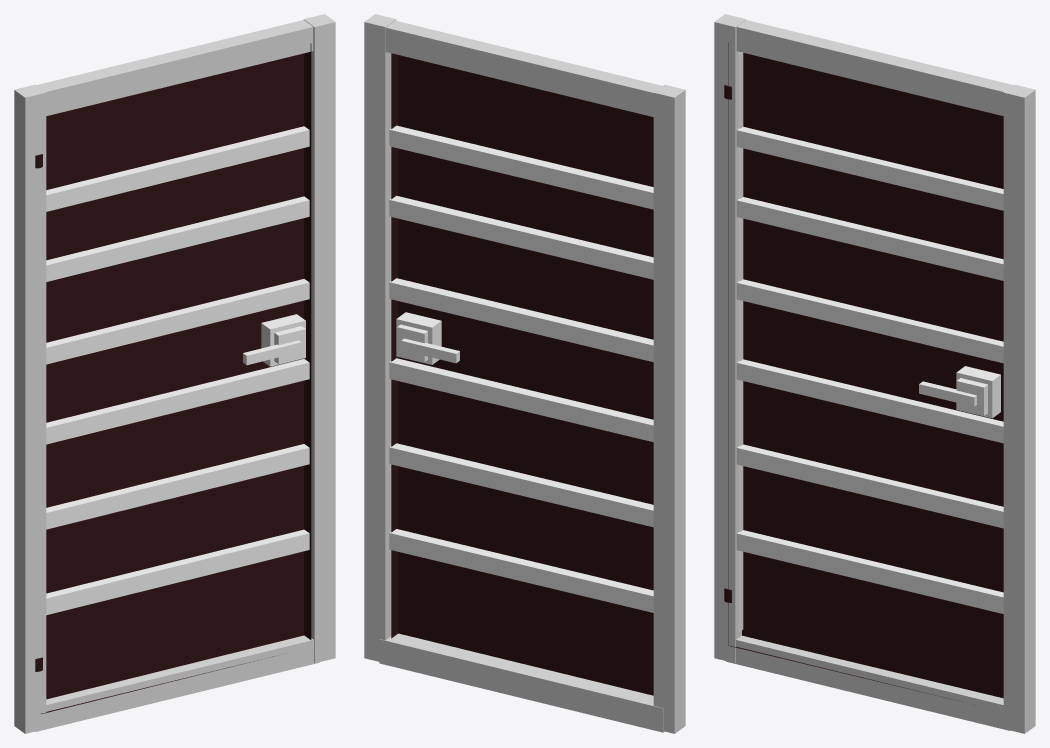
The model's file is Drzwi2.fbx.
3 views of the same model, side by side, from view 1: azimuth 30°, elevation 25°; view 2: azimuth 150°, elevation 25°; view 3: azimuth 330°, elevation 25° (orthographic).
Visible parts, largest first — view 1: Walec.001, Framuga; view 2: Walec.001, Framuga; view 3: Walec.001, Framuga, Cylinder.
Part boxes in pixels (x1=…): Walec.001: x1=35, y1=43, x2=311, y2=714; Framuga: x1=14, y1=14, x2=335, y2=733; Walec.001: x1=389, y1=53, x2=653, y2=695; Framuga: x1=364, y1=14, x2=685, y2=733; Walec.001: x1=724, y1=42, x2=1003, y2=701; Framuga: x1=714, y1=14, x2=1035, y2=733; Cylinder: x1=738, y1=52, x2=743, y2=631.
Bounding box in the file's own units: 415 × 814 × 58.3.
